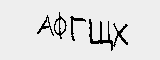А: (35, 12, 54, 37)
Г: (71, 17, 86, 44)
Ф: (54, 12, 65, 40)
Х: (111, 22, 129, 46)
Щ: (88, 19, 114, 52)
